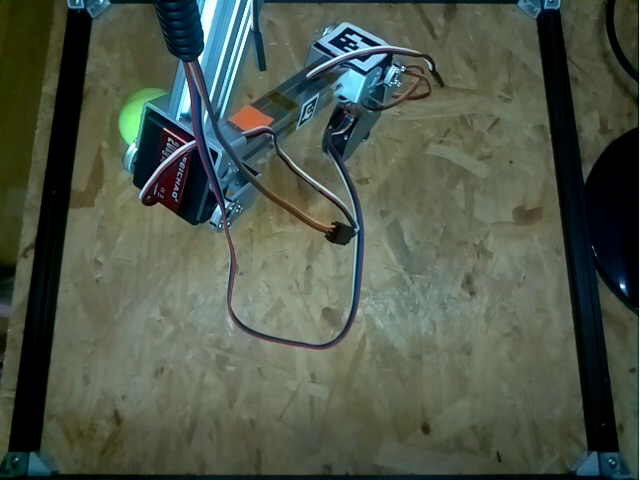tennis_ball: (118, 84, 142, 142)
